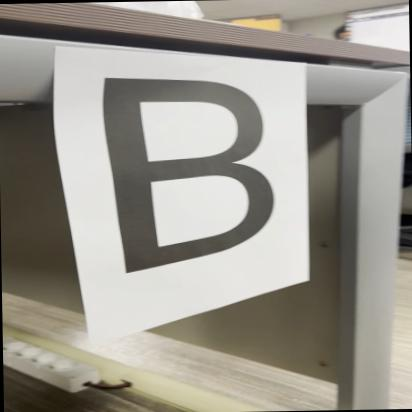seat: (65, 71, 289, 272)
